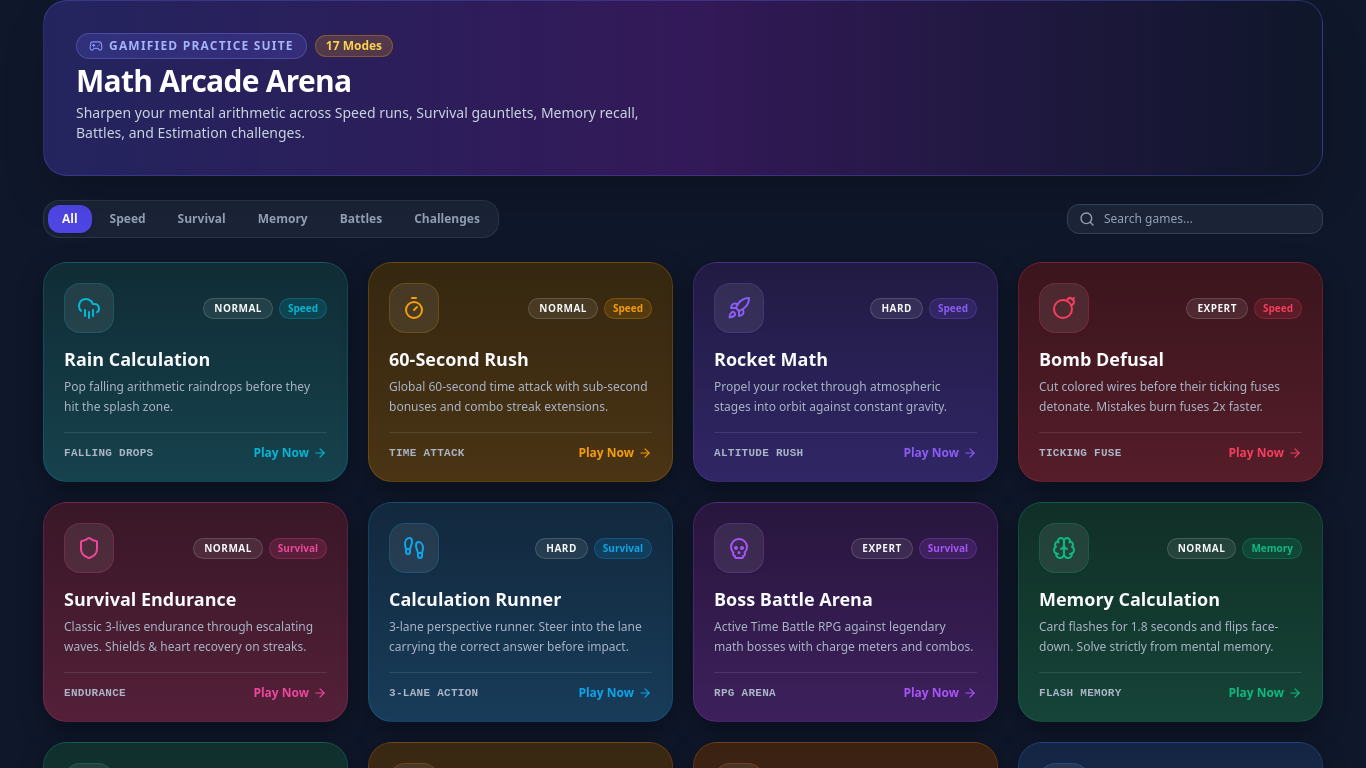
Test: GamesHubView › filters games by category tab click
# Click Speed tab
What coordinates should you click on to do the following:
click the button "Speed"
I would click on:
 (128, 219)
Its box is [96,205,160,233].
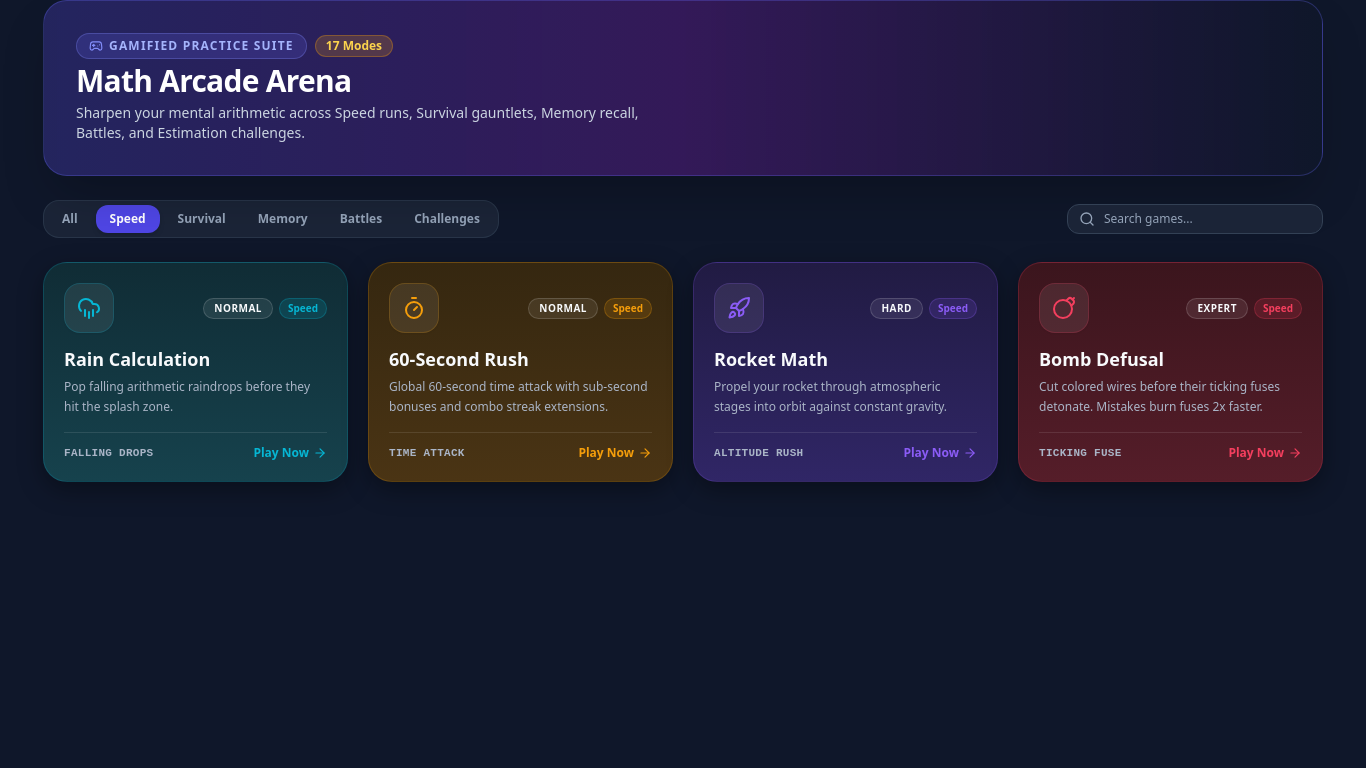
Check: the heading "Rain Calculation" is shown, box [64,347,210,371]
Check: the heading "Boss Battle Arena" is gone
Check: the heading "Memory Calculation" is gone
